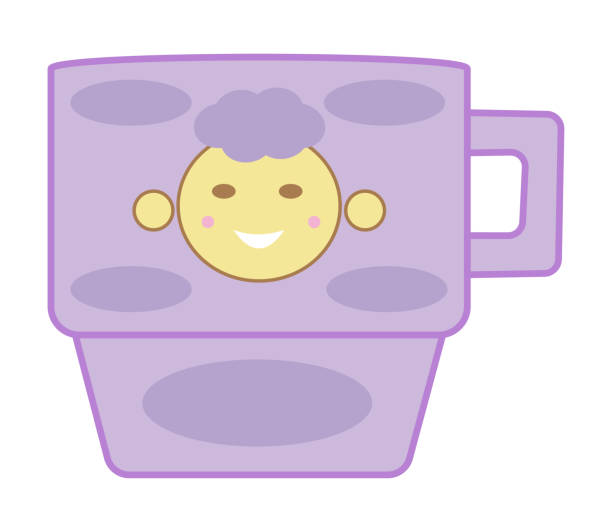cup: (11, 22, 609, 523)
